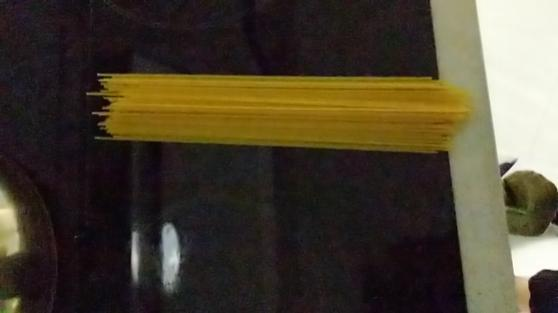spaghetti: (76, 55, 483, 161)
